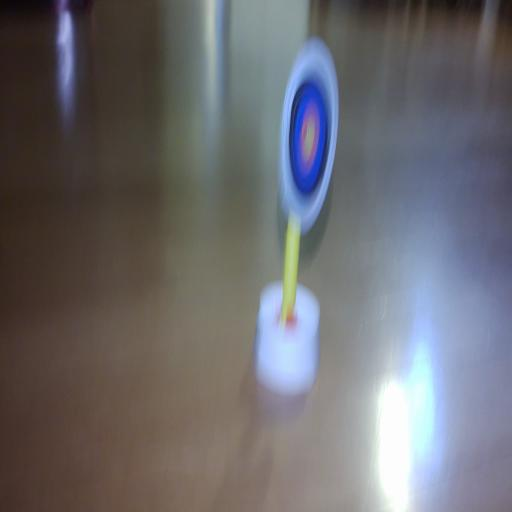target: (279, 38, 338, 233)
